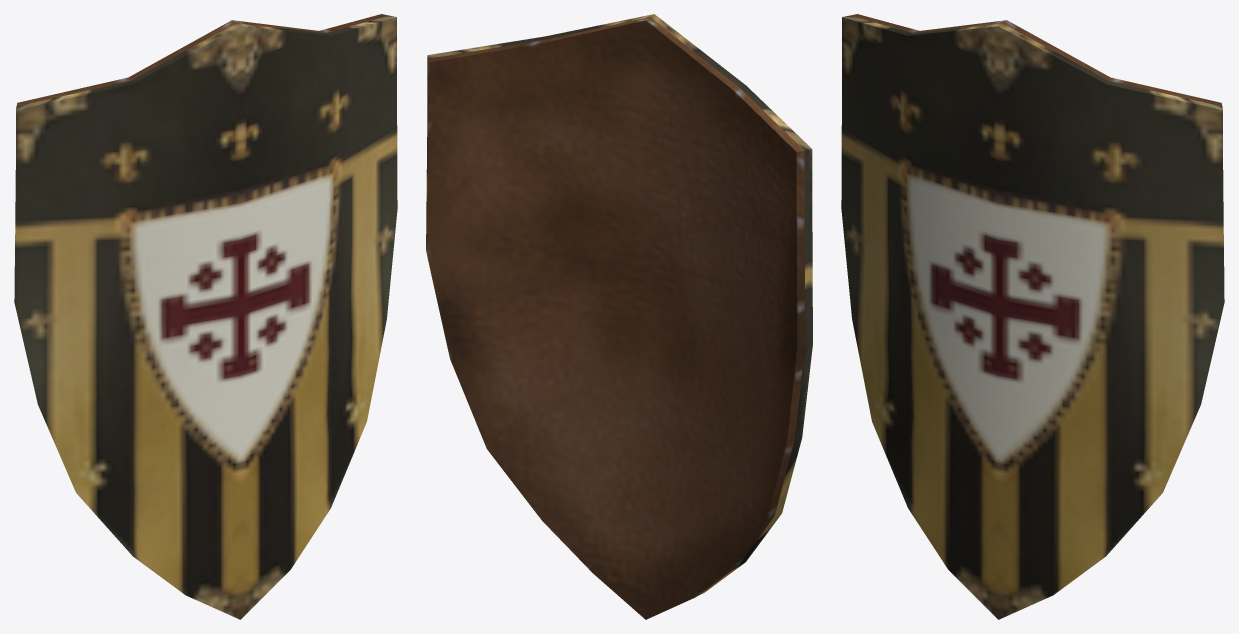
Rendered from Shield05.FBX.
3 views of the same model, side by side, from view 1: azimuth 30°, elevation 25°; view 2: azimuth 150°, elevation 25°; view 3: azimuth 330°, elevation 25° (orthographic).
Visible parts, largest first — view 1: Shield05; view 2: Shield05; view 3: Shield05.
Part boxes in pixels (x1,y1,x2,y2): Shield05: [14, 14, 397, 619]; Shield05: [426, 14, 812, 619]; Shield05: [841, 14, 1224, 619].
Bounding box in the file's own units: 62.7 × 11.8 × 92.84.
